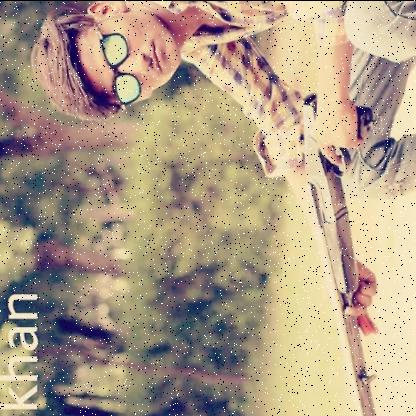rifle: (298, 88, 387, 416)
